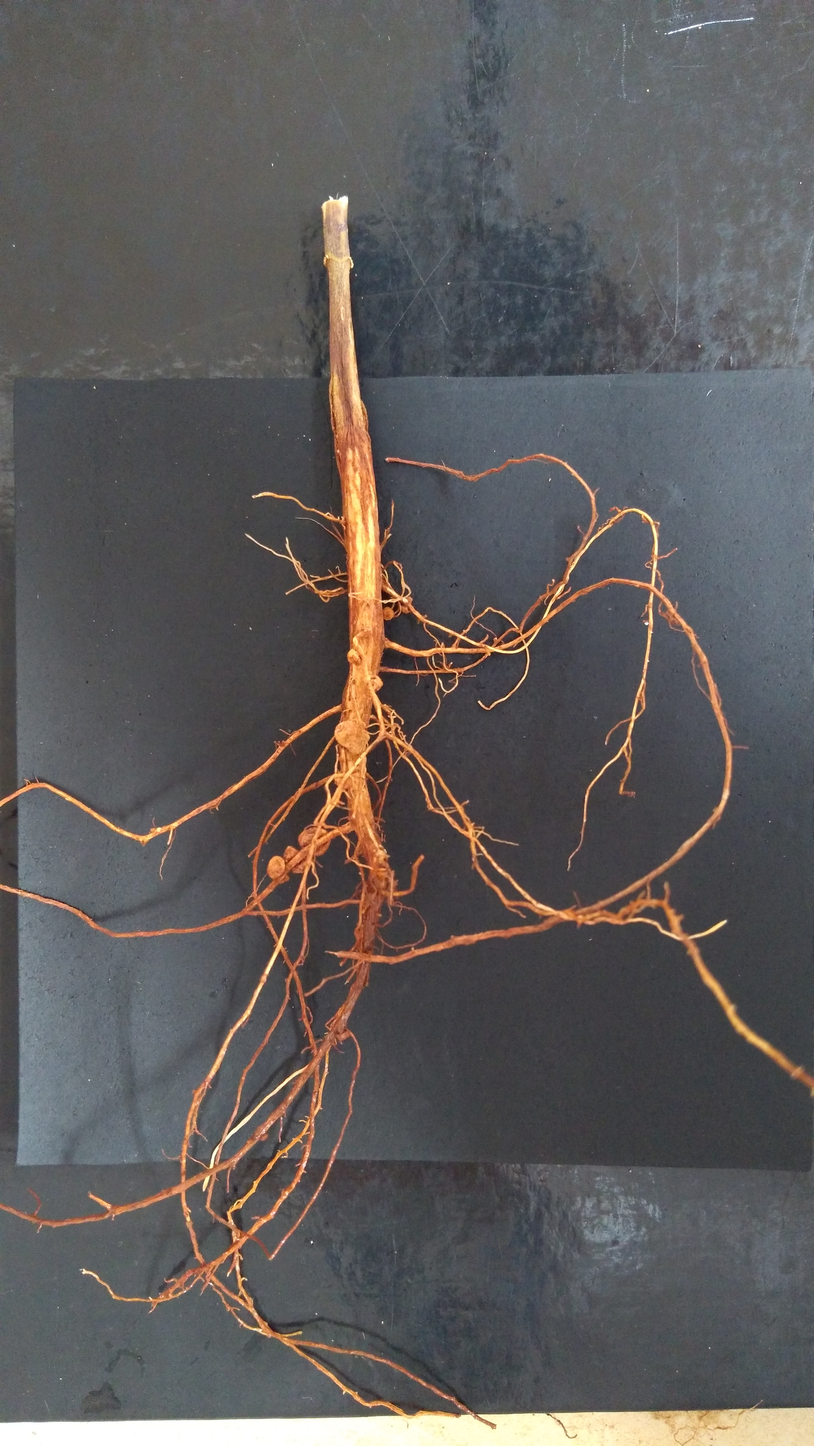nodule: (334, 720, 370, 754), (298, 827, 331, 856), (283, 846, 309, 874), (267, 855, 285, 878), (334, 772, 353, 790), (372, 848, 389, 866), (369, 675, 383, 692), (346, 649, 361, 664), (272, 873, 289, 884), (382, 606, 394, 621), (400, 604, 409, 614), (259, 1134, 268, 1141), (406, 597, 412, 604), (337, 449, 339, 453)
